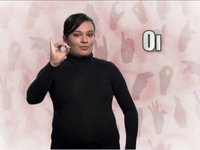oi: (46, 38, 70, 66)
